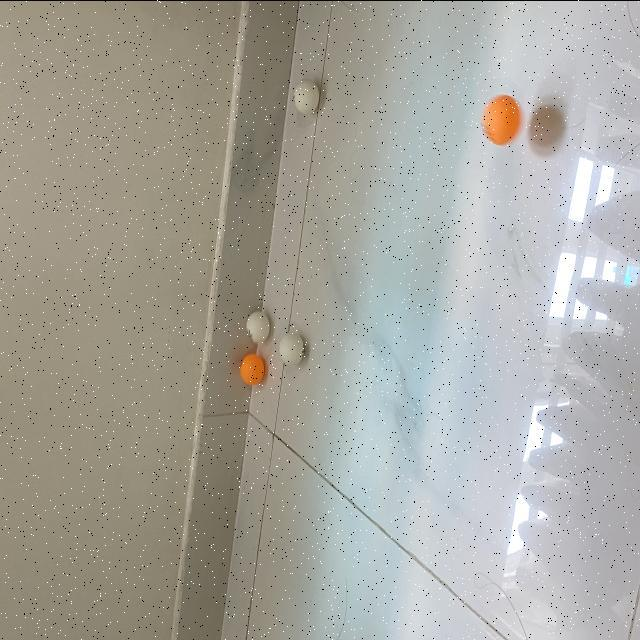ping-pong-ball: (484, 91, 522, 143), (294, 75, 319, 114), (280, 330, 305, 366), (238, 352, 264, 383), (246, 309, 271, 341)
